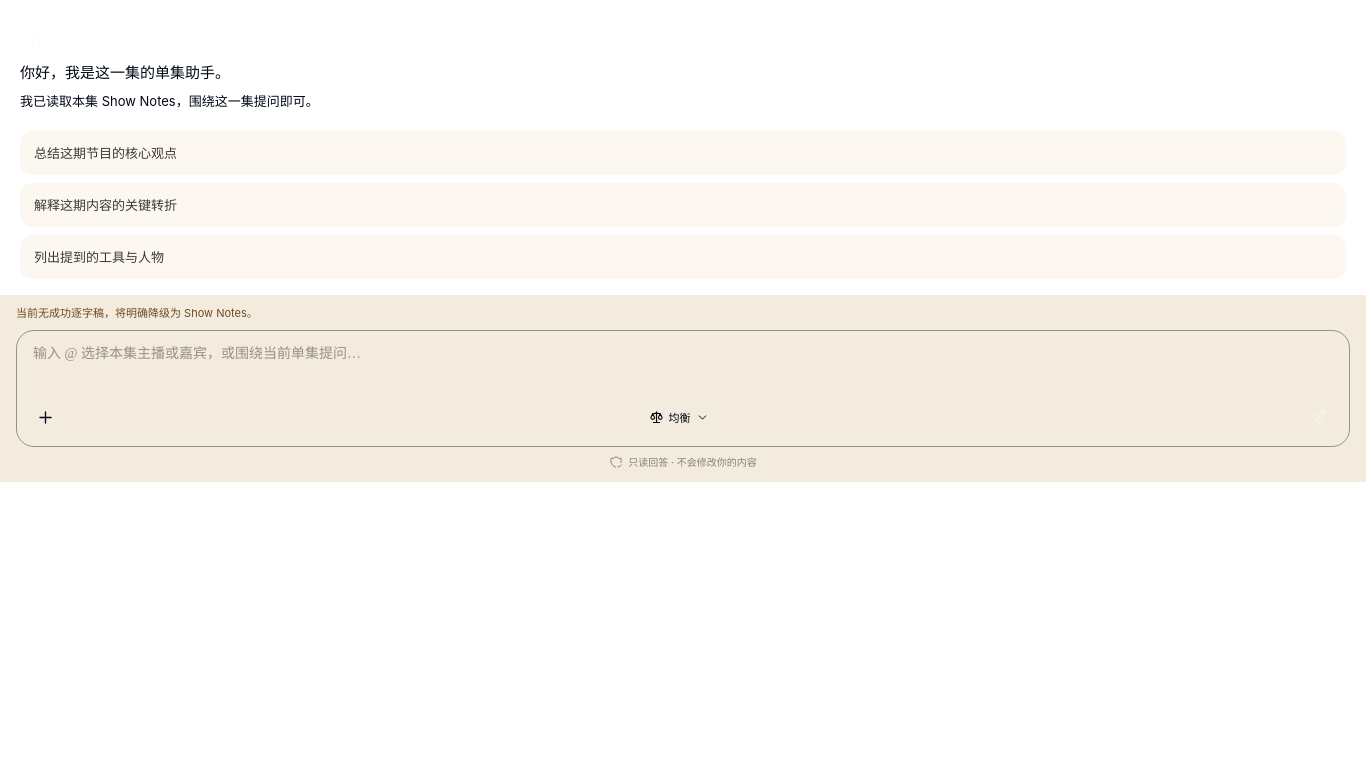
Test case: EpisodeCopilotPanel › welcomes with quick questions and submits one exactly once as an ordinary question
Expected: the text "你好，我是这一集的单集助手。" is shown, [20, 65, 230, 81]
Expected: the element named "快捷问题" is shown, [20, 131, 1346, 279]
What coordinates should you click on to do the following:
click the button "总结这期节目的核心观点"
I would click on:
 (106, 153)
Its box is [20, 131, 1346, 175].
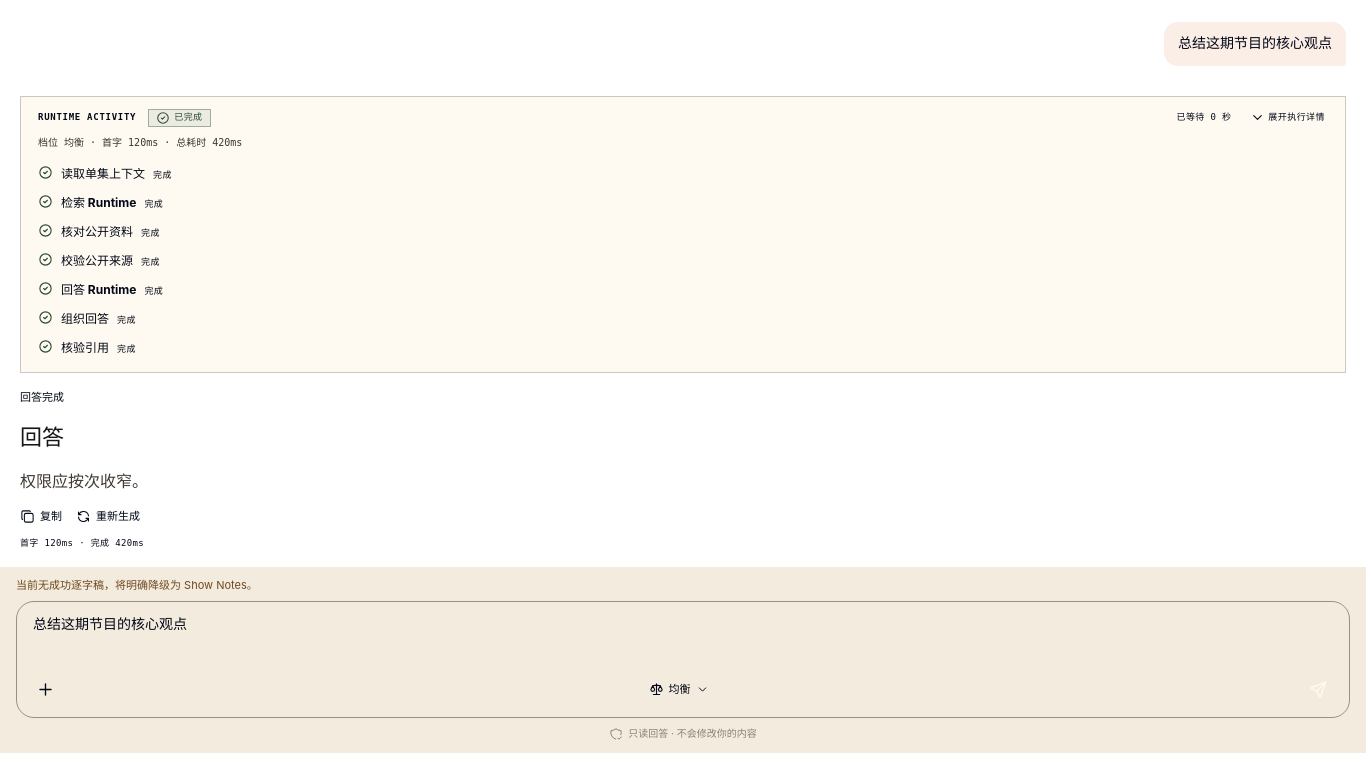
Expected: the text "总结这期节目的核心观点" is shown, [1164, 22, 1346, 66]
Expected: the element "快捷问题" is gone
Expected: the text "权限应按次收窄。" is shown, [20, 471, 148, 491]
